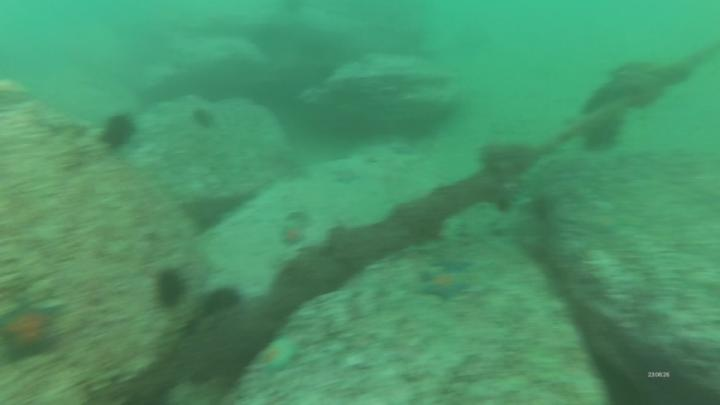echinus: (102, 113, 139, 149), (204, 284, 242, 315), (159, 270, 187, 310), (196, 105, 218, 132)
starfish: (2, 300, 64, 361), (256, 336, 305, 376), (424, 270, 467, 302), (434, 255, 476, 277), (281, 223, 308, 248), (333, 168, 360, 185), (393, 144, 419, 158)
